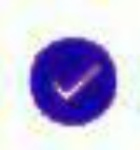CheckBox: (1, 1, 139, 149)
